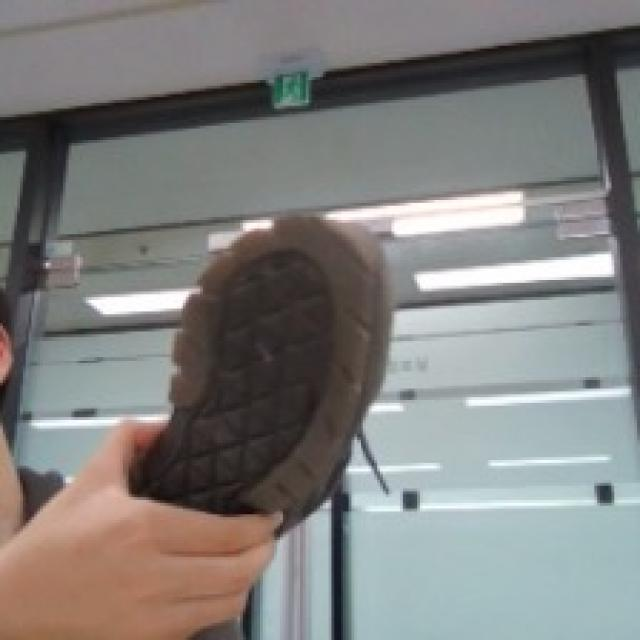shoes: (95, 200, 469, 631)
